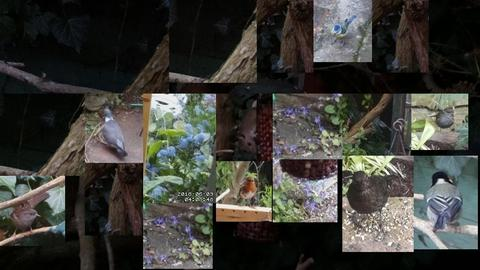blackbird: (346, 171, 399, 237)
blue tit: (330, 15, 357, 49)
dunnock: (10, 191, 50, 241)
great tit: (425, 171, 463, 234)
mouse: (235, 109, 258, 154)
robin: (235, 176, 257, 208)
sparrow: (430, 109, 453, 131)
wood pigeon: (102, 109, 128, 158)
